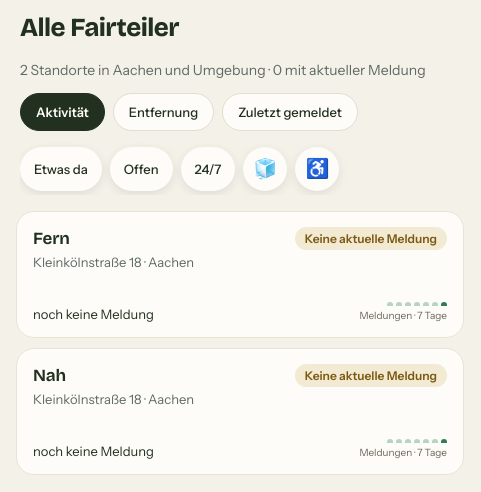
Test: ListeView › distance sort asks for geolocation, orders by distance and shows distances
Click the button with test id "sort-distance": x=163, y=112 top-left (113, 93), bottom-right (214, 131)
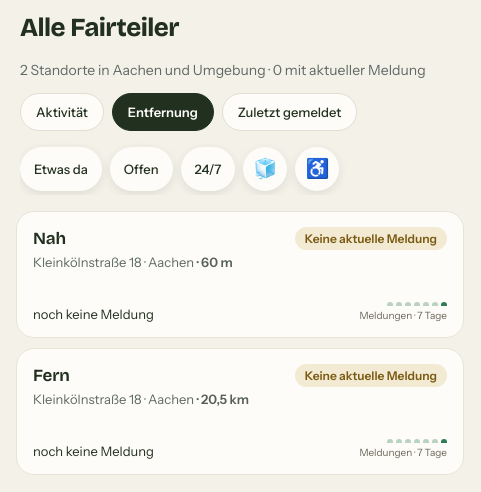
expect the elements with class "name" read "Nah", "Fern", in this order: met, box top-left (33, 228), bottom-right (66, 249); top-left (33, 365), bottom-right (70, 386)
expect the text with test id "distance" reads "· 60 m": met, box top-left (197, 254), bottom-right (233, 270)
